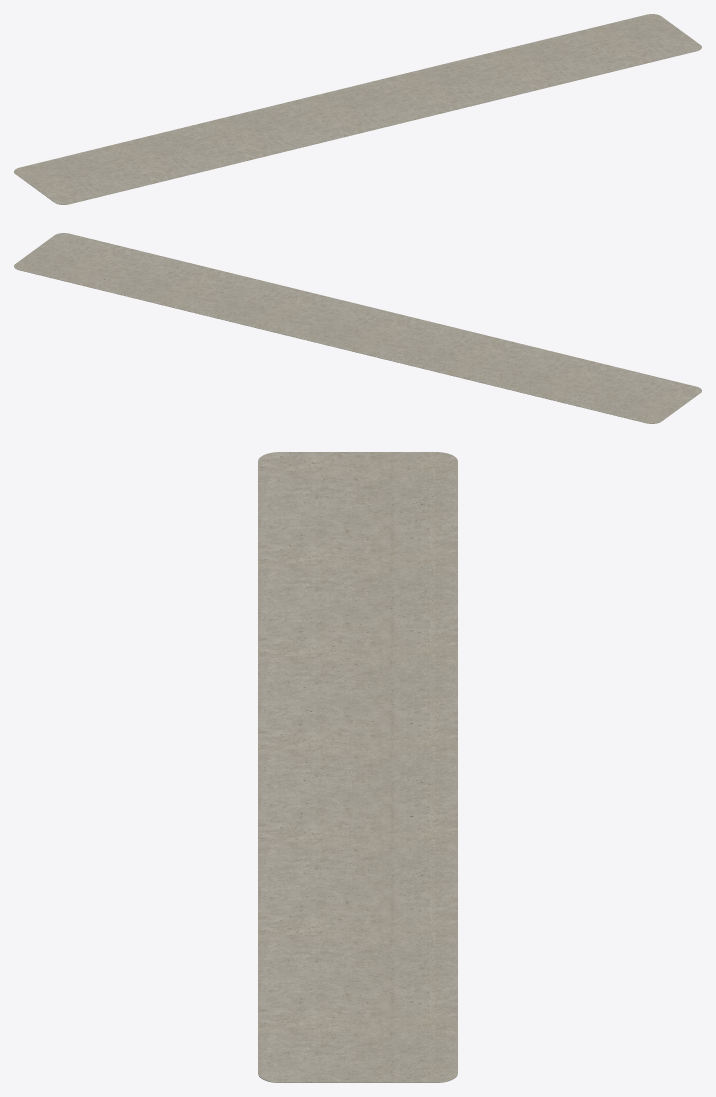
Rendered from Ground03.FBX.
3 renders of one model, top to bottom at view 1: azimuth 30°, elevation 25°; view 2: azimuth 150°, elevation 25°; view 3: azimuth 270°, elevation 25°, orthographic. The views are drawn at different scales.
Visible parts, largest first — view 1: Object002; view 2: Object002; view 3: Object002.
Part boxes in pixels (x1=…): Object002: x1=14, y1=14, x2=701, y2=204; Object002: x1=14, y1=233, x2=701, y2=423; Object002: x1=258, y1=452, x2=457, y2=1082.
Size of the model in its own units: 680 by 0.2 by 91.
